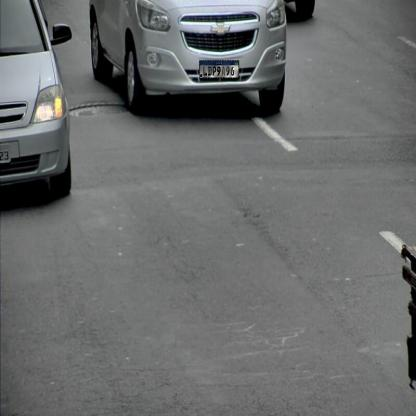PlacaM: (199, 60, 239, 78)
